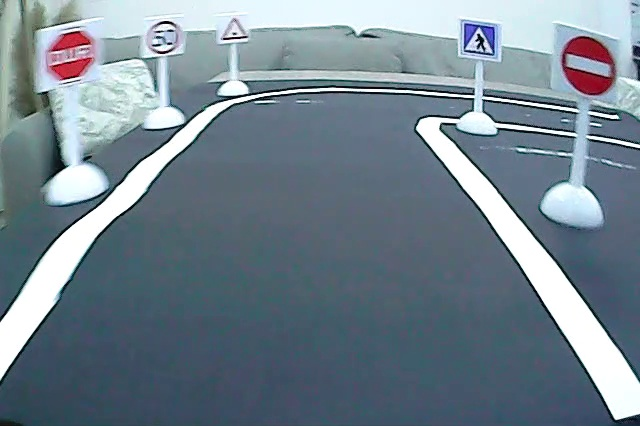do not enter: (558, 33, 620, 99)
green light: (220, 13, 250, 42)
pedestrian crossing: (460, 20, 499, 58)
speed limit 50: (144, 17, 184, 56)
stop sign: (43, 25, 100, 85)
